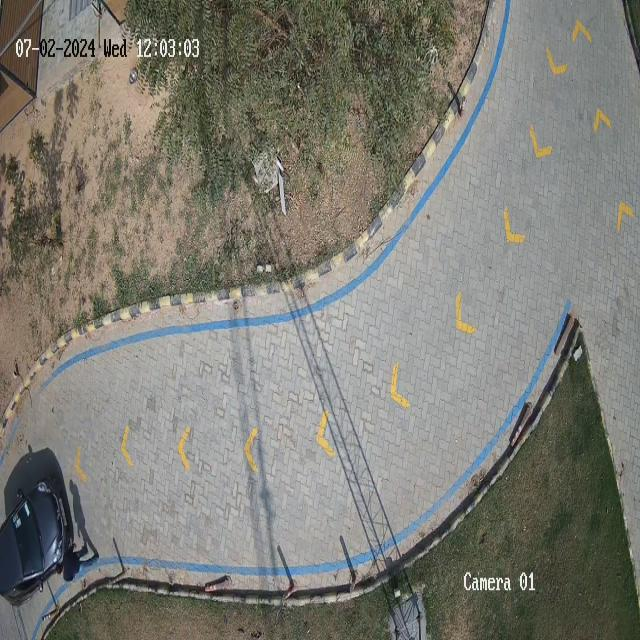car: (0, 476, 72, 609)
